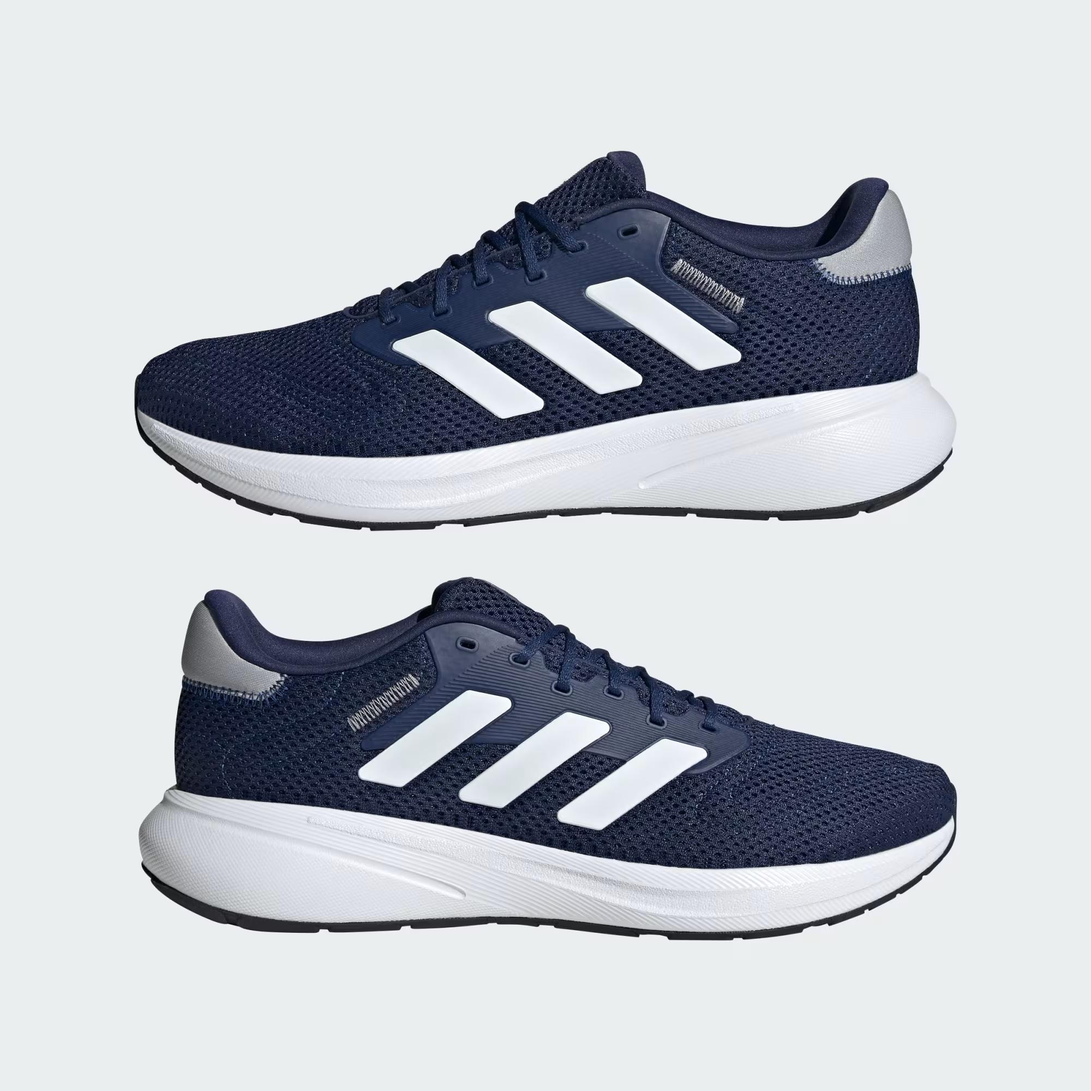marca: (336, 688, 699, 844), (388, 280, 766, 420)
shoe: (123, 147, 969, 529), (129, 568, 966, 947)
